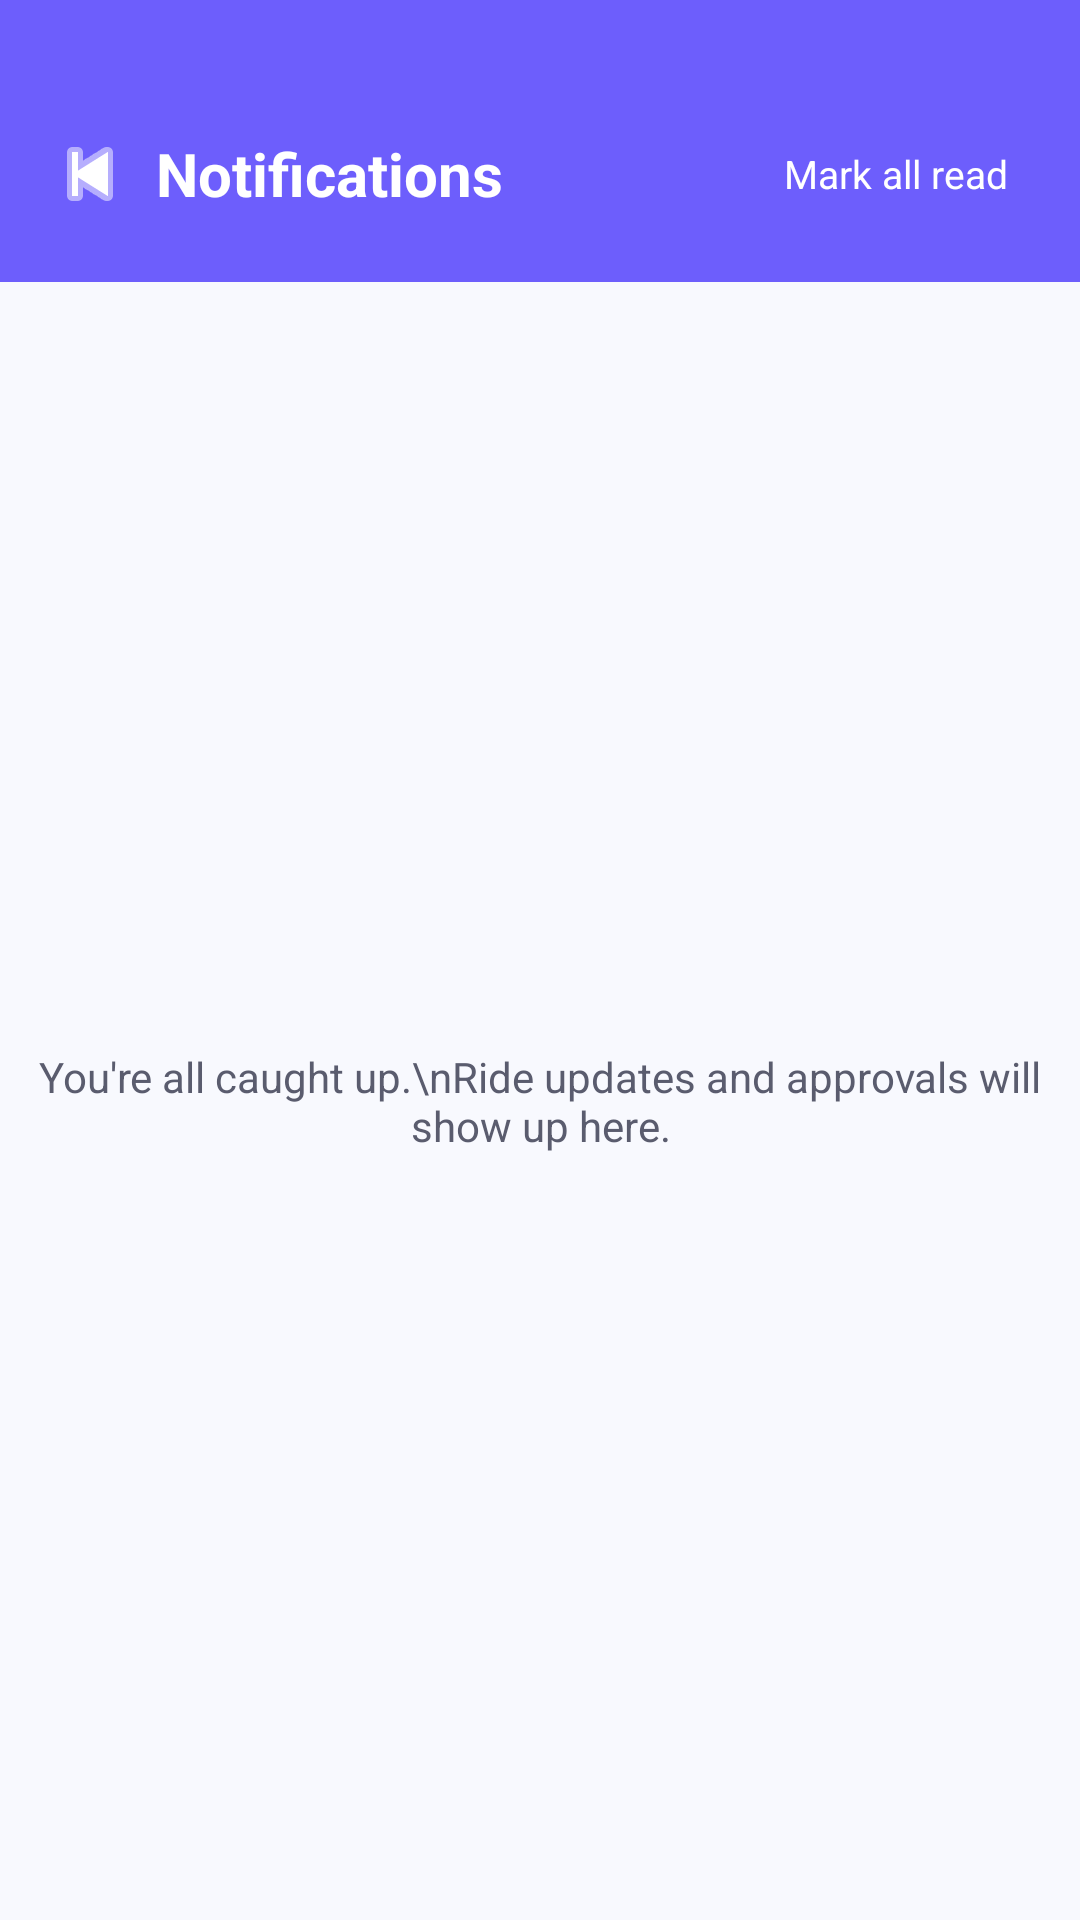

Point at icon controls on the screen. Image size 1080px×1920px, points as (x,y).
Back: (90,174)
